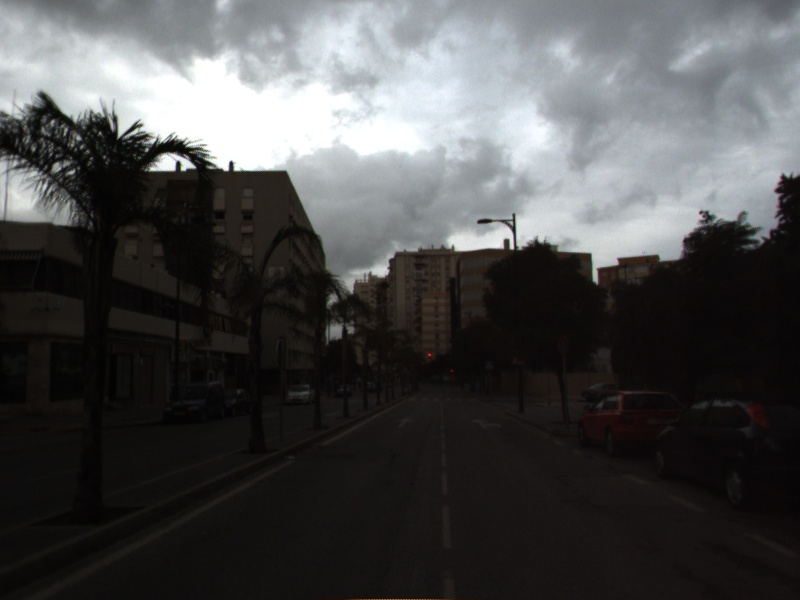STRAIGHT: (396, 416, 415, 429)
STRAIGHT_RIGHT: (470, 417, 505, 430)
